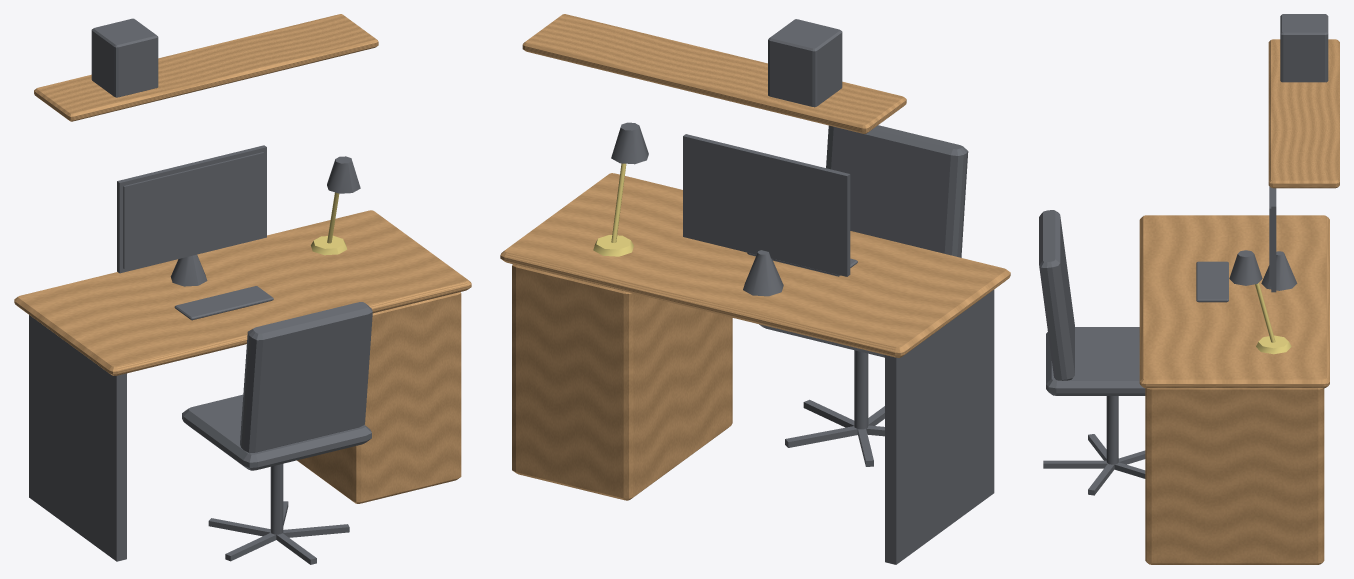
The model's file is work_desk_computer.glb.
3 views of the same model, side by side, from view 1: azimuth 30°, elevation 25°; view 2: azimuth 150°, elevation 25°; view 3: azimuth 270°, elevation 25° (orthographic). The views are drawn at different scales.
Parts seen in each view (by area): view 1: work_desk_computer_woodOak, work_desk_computer_metalBlack, work_desk_computer_metalBrass; view 2: work_desk_computer_woodOak, work_desk_computer_metalBlack, work_desk_computer_metalBrass; view 3: work_desk_computer_woodOak, work_desk_computer_metalBlack, work_desk_computer_metalBrass.
Part boxes in pixels (x1=…): work_desk_computer_woodOak: x1=14, y1=14, x2=471, y2=503; work_desk_computer_metalBlack: x1=29, y1=18, x2=372, y2=564; work_desk_computer_metalBrass: x1=311, y1=192, x2=347, y2=255; work_desk_computer_woodOak: x1=500, y1=14, x2=1010, y2=500; work_desk_computer_metalBlack: x1=611, y1=19, x2=994, y2=564; work_desk_computer_metalBrass: x1=593, y1=163, x2=633, y2=256; work_desk_computer_woodOak: x1=1139, y1=39, x2=1339, y2=564; work_desk_computer_metalBlack: x1=1039, y1=14, x2=1328, y2=495; work_desk_computer_metalBrass: x1=1255, y1=283, x2=1291, y2=354.
Size of what is drawn, in the model's own units: 1.42 by 1.69 by 1.08.
3 materials, 1 textured.
